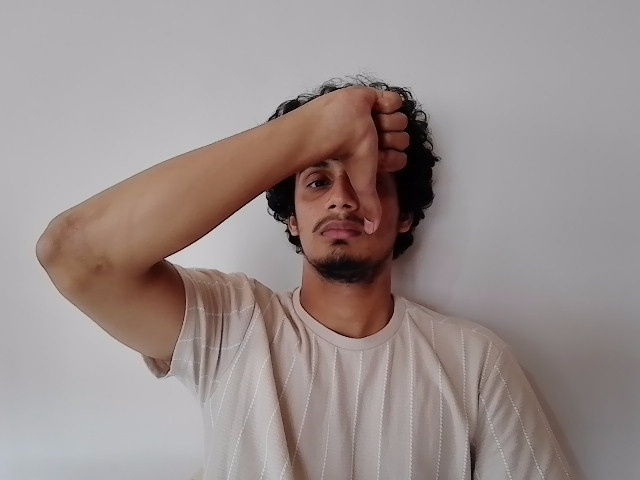drink: (286, 85, 415, 275)
